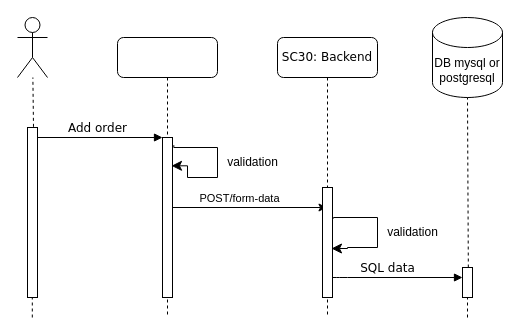
This 520x336 diagram has some shape labels left out. The box of each missing label's shape, as (x1, y1, x2, y2) in pixels:
Actor: (16, 16, 48, 78)
SC30: UI Frontend: (116, 36, 218, 318)
